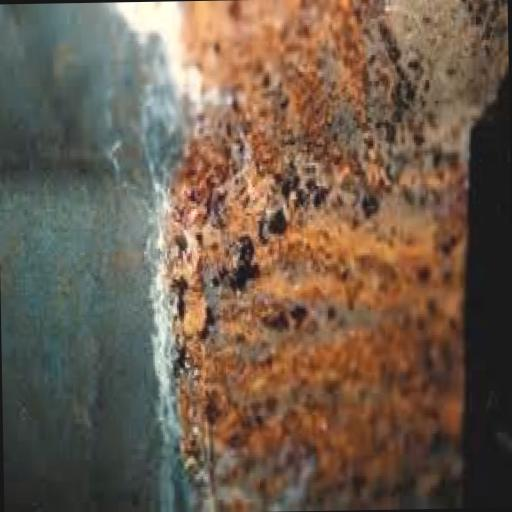segmentation: (169, 0, 509, 510)
